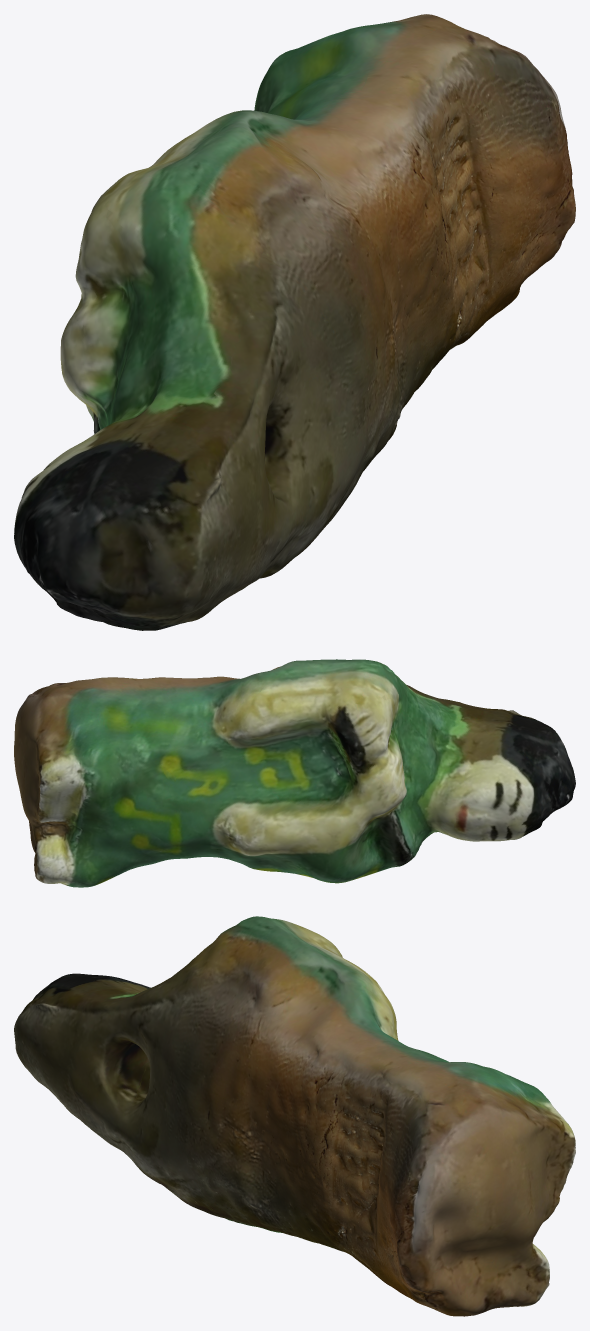
3 renders of one model, top to bottom at view 1: azimuth 30°, elevation 25°; view 2: azimuth 150°, elevation 25°; view 3: azimuth 270°, elevation 25°, orthographic. The views are drawn at different scales.
Bounding box in the file's own units: 0.6495 × 0.3161 × 0.5821.
1 material, 1 textured.
